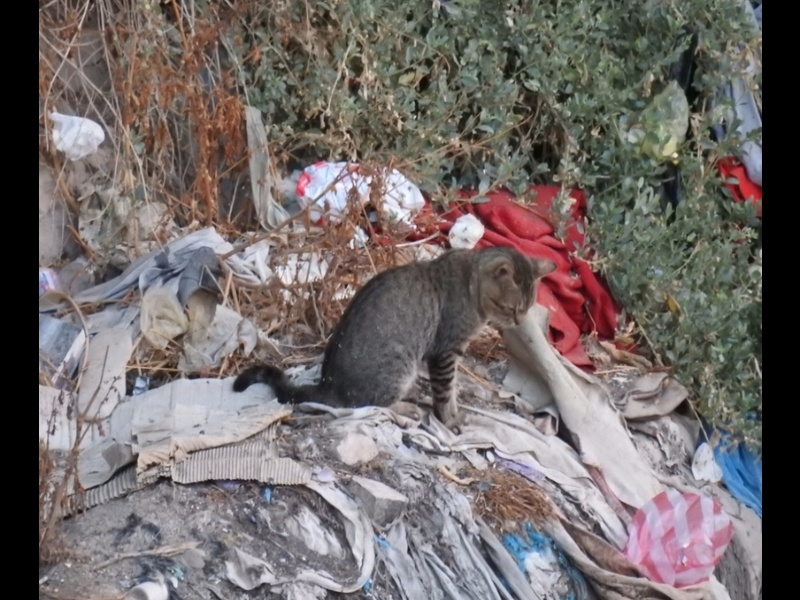cat: (235, 242, 562, 420)
